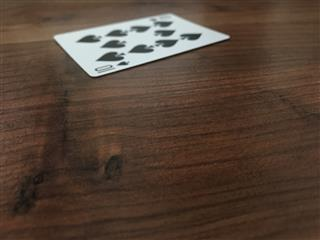TenOfSpades: (52, 12, 230, 77)
